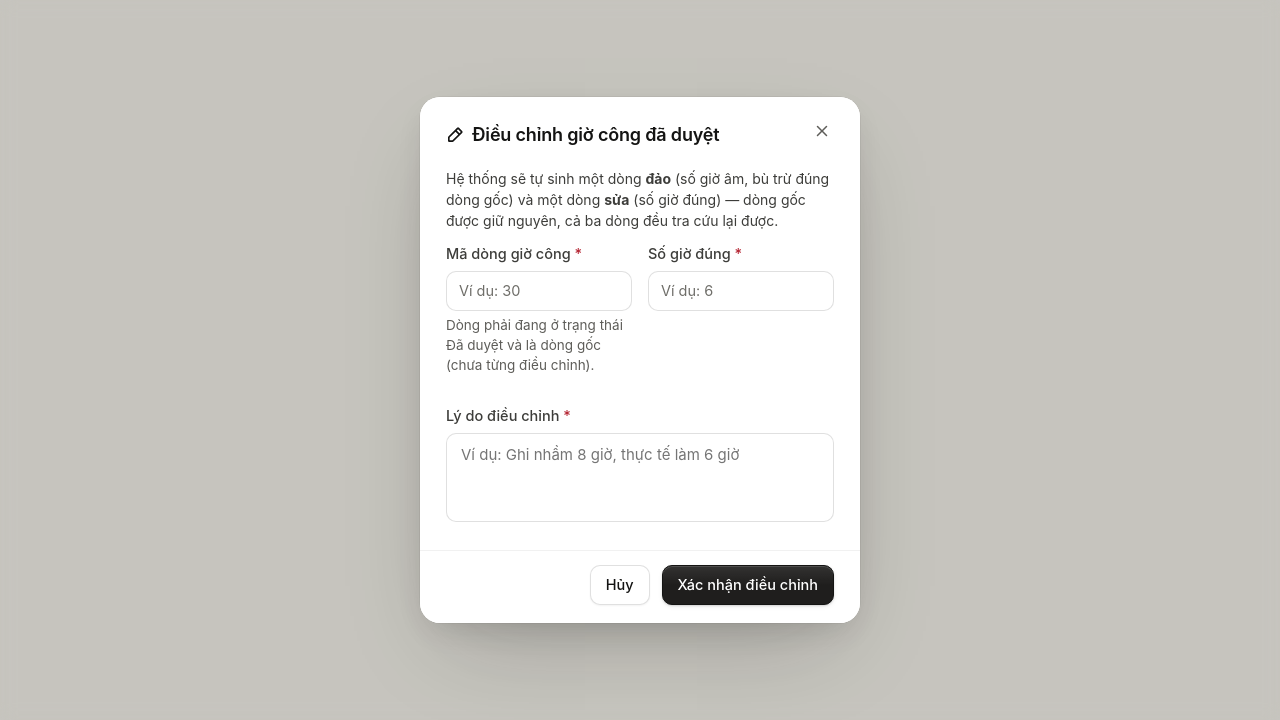
Test: AdjustmentModal (NCL-06-CN-005) › hiển thị lỗi server khi backend từ chối (ví dụ dòng chưa duyệt)
Type "30" into the number field labelled "Mã dòng giờ công *".
click(539, 291); type("30")  # box [446,271,632,311]
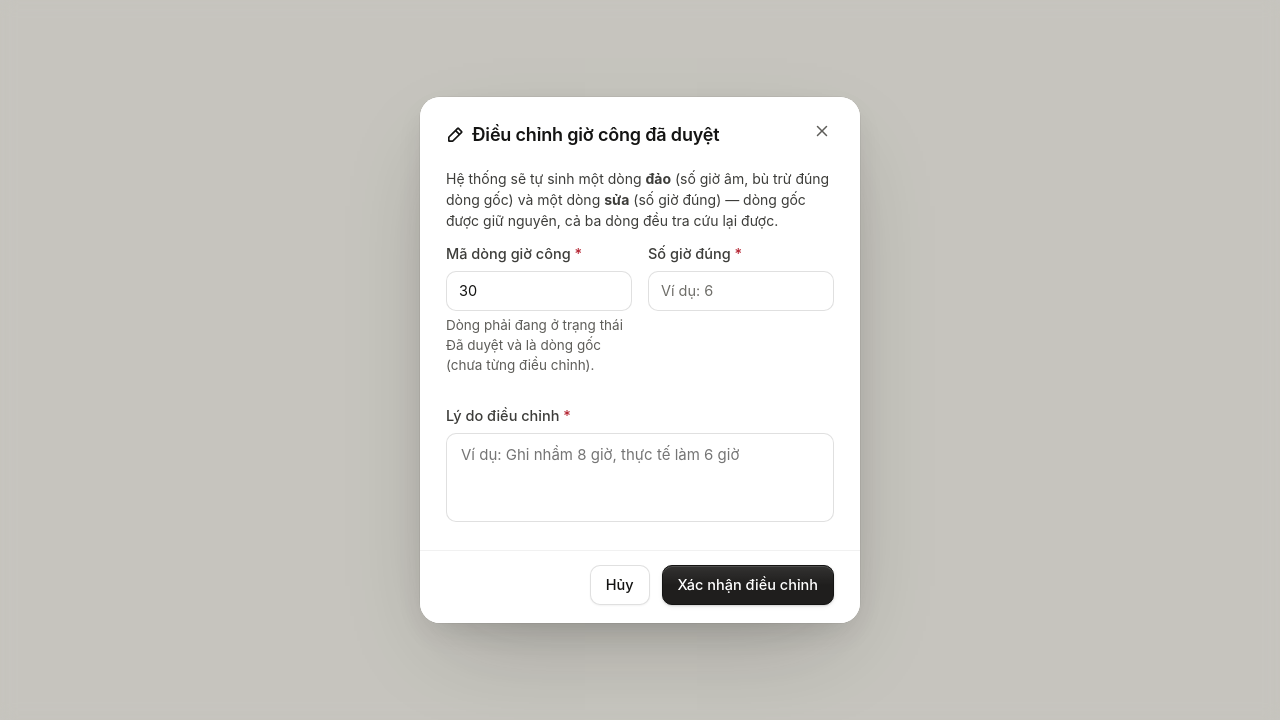
Type "6" into the number field labelled "Số giờ đúng *".
click(741, 291); type("6")  # box [648,271,834,311]
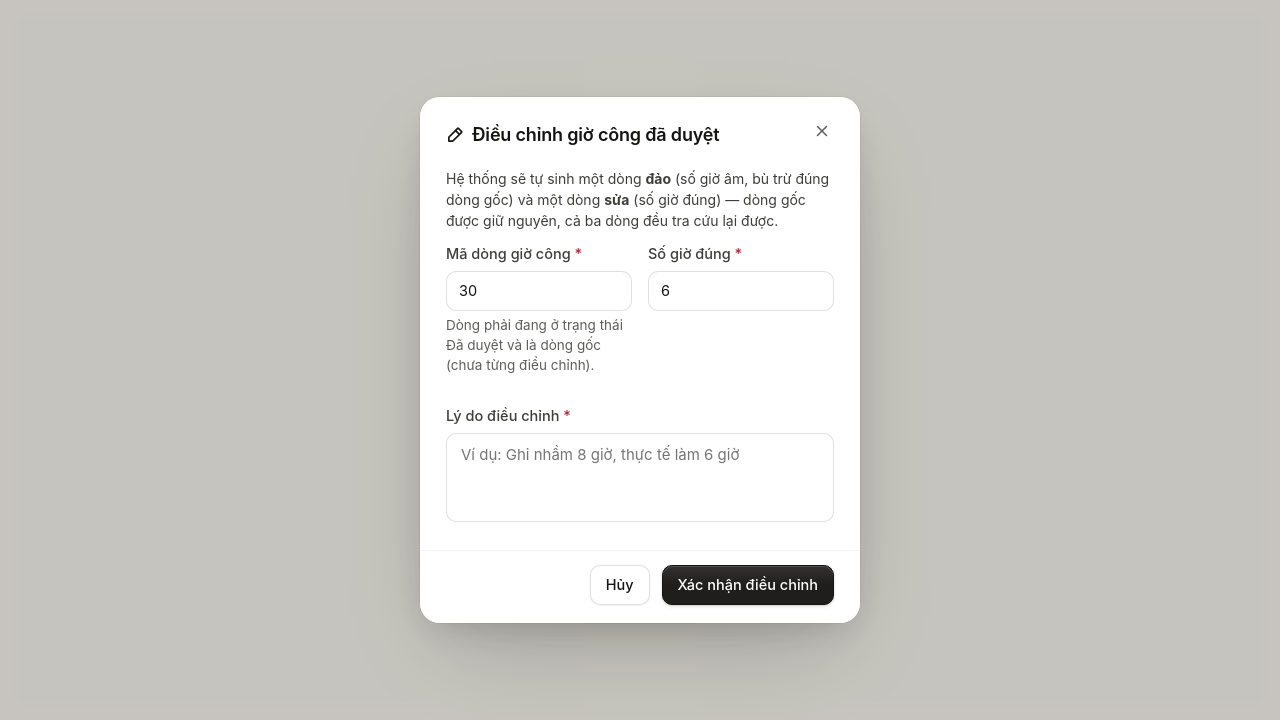
Type "Sua lai gio" into the text box labelled "Lý do điều chỉnh *".
click(640, 478); type("Sua lai gio")  # box [446,433,834,522]
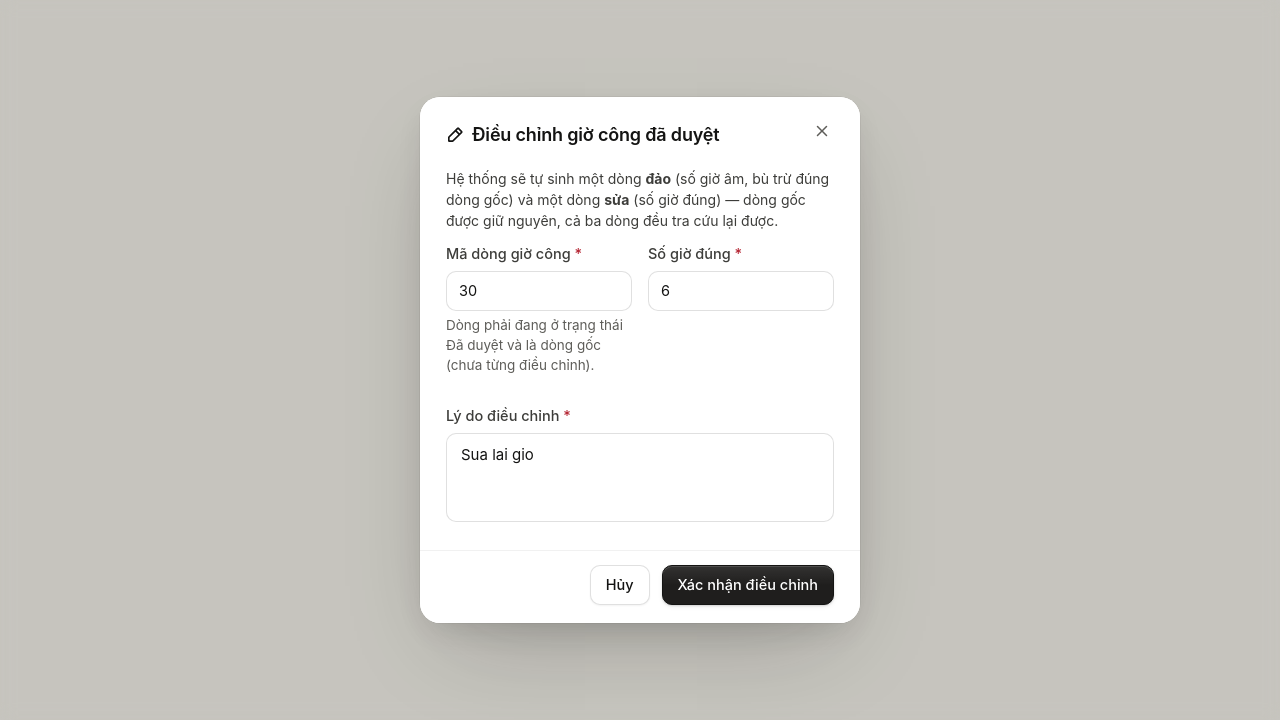
Click the button "Xác nhận điều chỉnh".
click(748, 585)  # box [662,565,834,605]
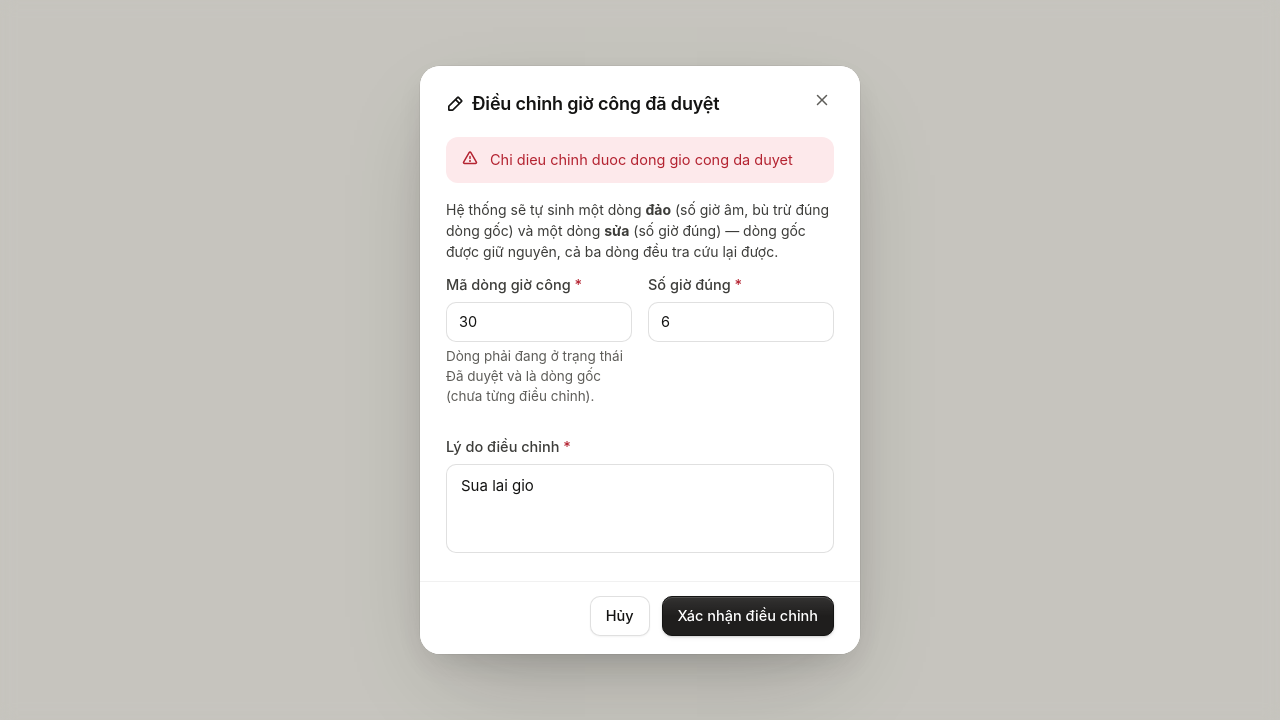
Now the text "Chi dieu chinh duoc dong gio cong da duyet" is shown, box [490,149,793,171]
